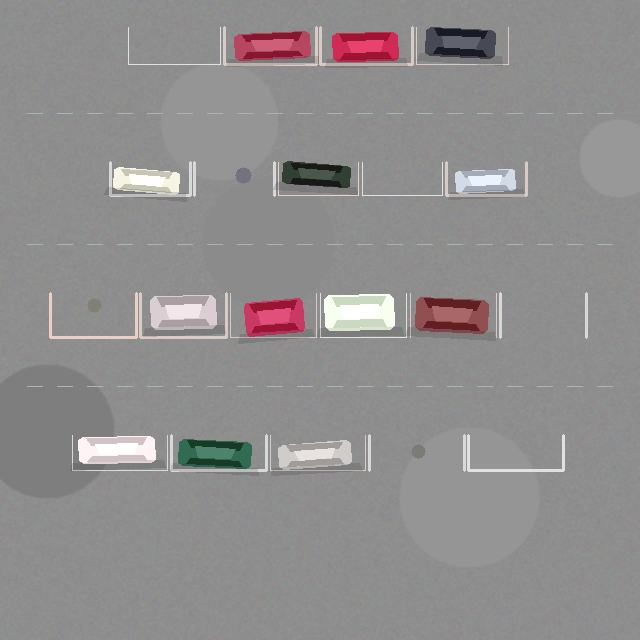space-empty: (50, 293, 136, 337), (500, 293, 586, 337), (128, 27, 220, 64), (369, 435, 464, 470), (468, 435, 563, 470), (194, 162, 274, 195), (362, 162, 442, 195)
space-occupied: (140, 293, 226, 337), (230, 293, 316, 337), (320, 293, 406, 337), (410, 293, 496, 337), (224, 27, 316, 64), (320, 27, 412, 64), (416, 27, 508, 64), (72, 435, 167, 470), (171, 435, 266, 470), (270, 435, 365, 470), (110, 162, 190, 195), (278, 162, 358, 195), (446, 162, 526, 195)
